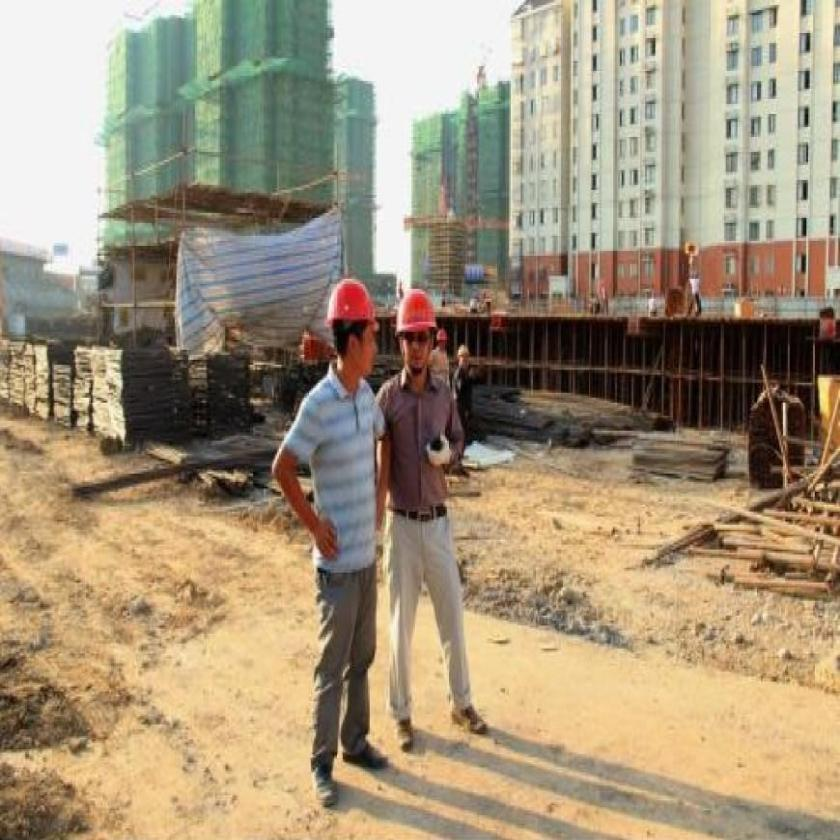Con_casco: (326, 256, 376, 384), (395, 280, 432, 373)
